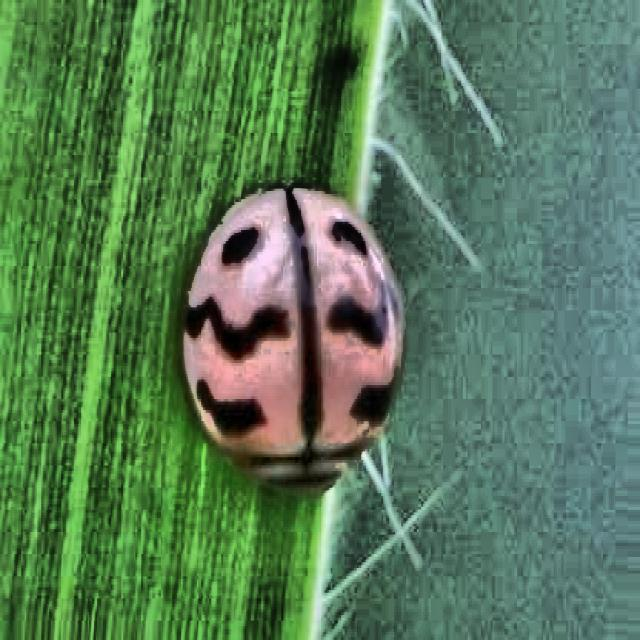Asian-Lady-beetle: (114, 83, 462, 555)
